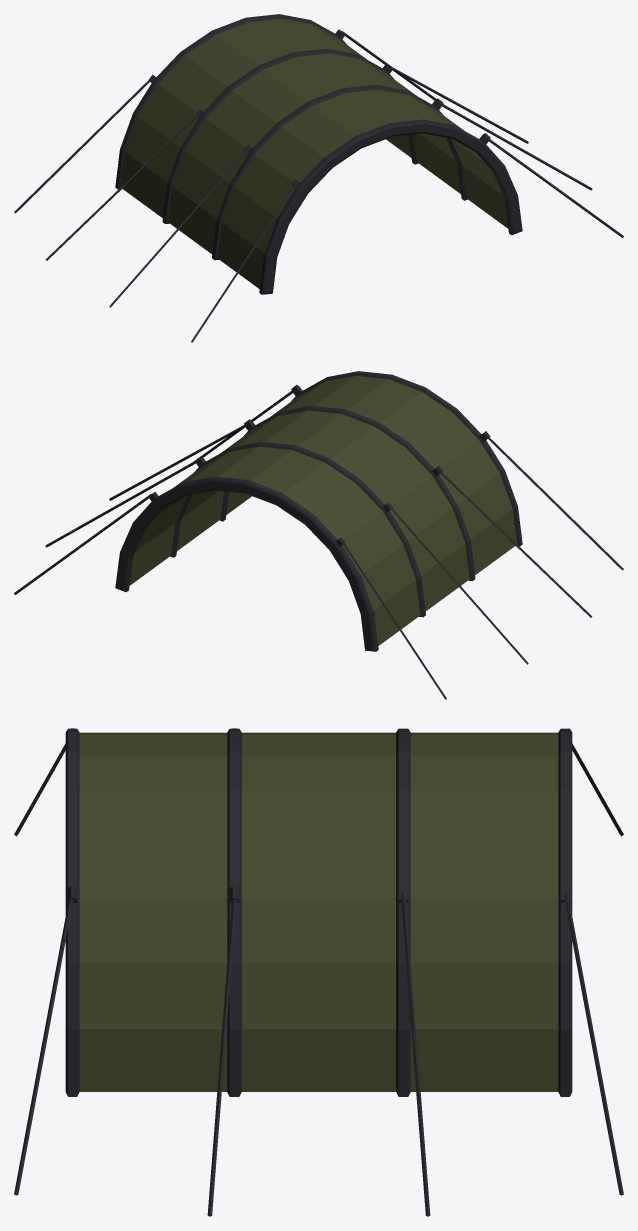
Rendered from LPWarPack_RoundShelter.fbx.
3 views of the same model, one above another, from view 1: azimuth 30°, elevation 25°; view 2: azimuth 150°, elevation 25°; view 3: azimuth 270°, elevation 25° (orthographic). The views are drawn at different scales.
Visible parts, largest first — view 1: RoundShelter; view 2: RoundShelter; view 3: RoundShelter.
Boxes of the visible parts, x1,y1,x2,y2 form: RoundShelter: [14, 14, 623, 342]; RoundShelter: [14, 371, 623, 699]; RoundShelter: [14, 728, 623, 1216].
Size of the model in its own units: 1131 by 345 by 722.
